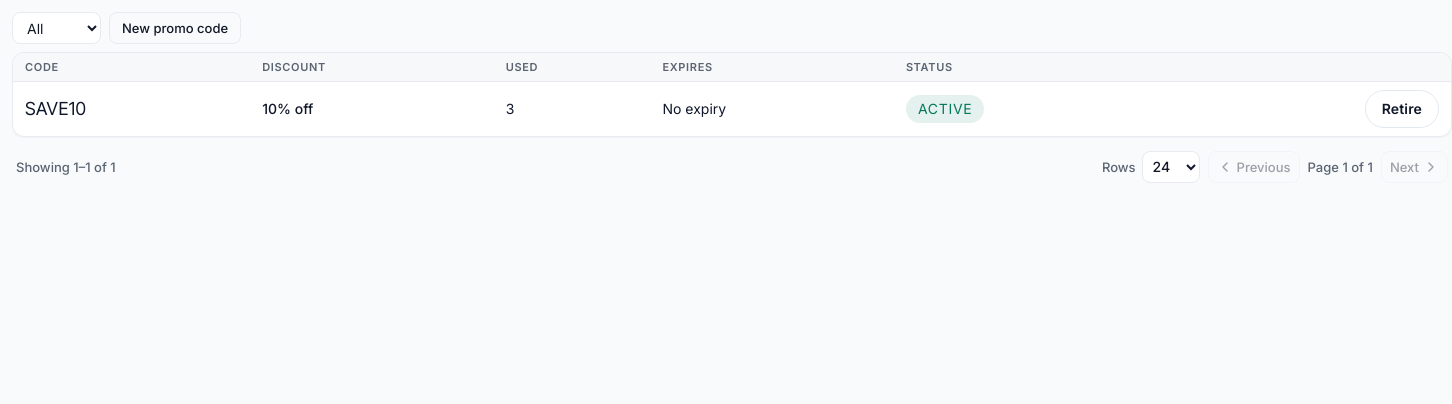
Test case: creating › shows the server's reason when the code is rejected
Expected: the 1st text "SAVE10" is shown, [25, 98, 86, 118]
Click the 1st button named "new promo code" at (175, 28), box [109, 12, 241, 44]
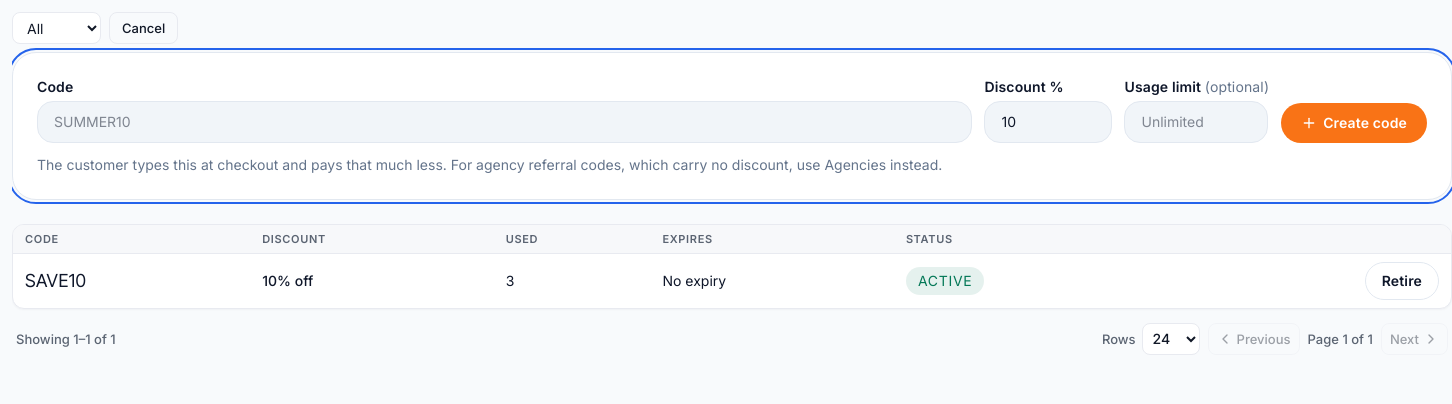
Type "SAVE10" into the field named "code" at (505, 122), box [37, 101, 972, 143]
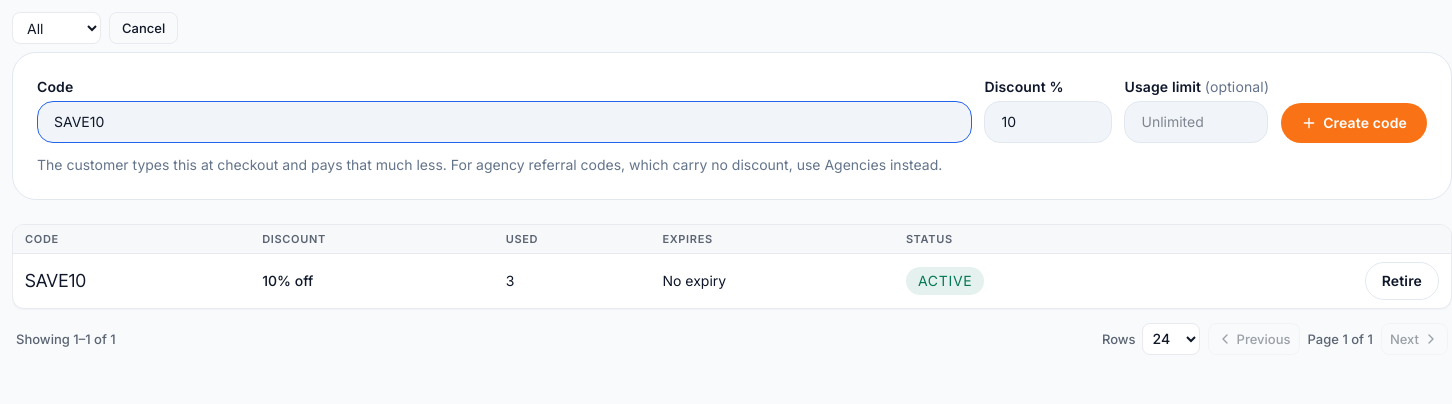
Click the 2nd button named "create code" at (1354, 123), box [1281, 103, 1427, 143]
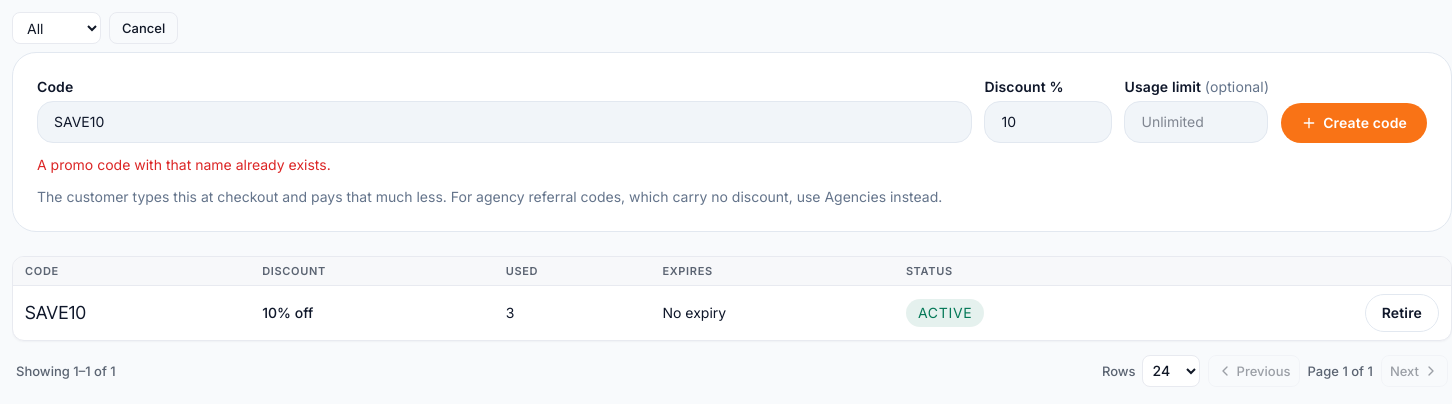
Result: the text "already exists" is shown at [37, 156, 331, 173]
